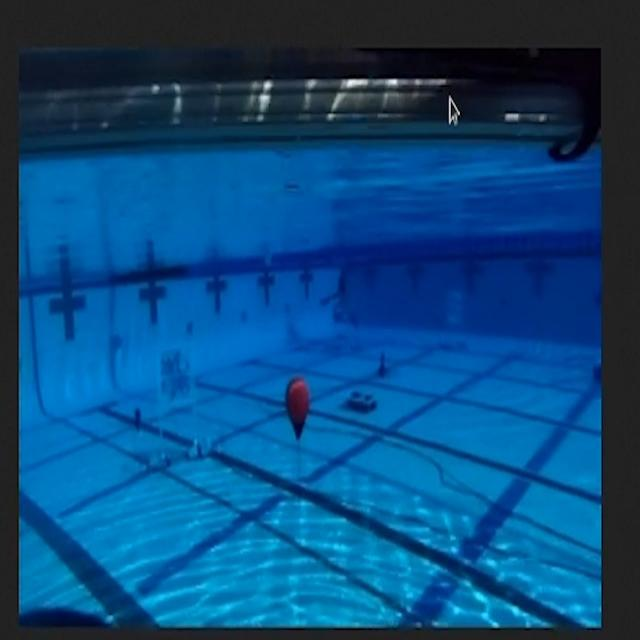Buoy: (280, 366, 315, 452)
